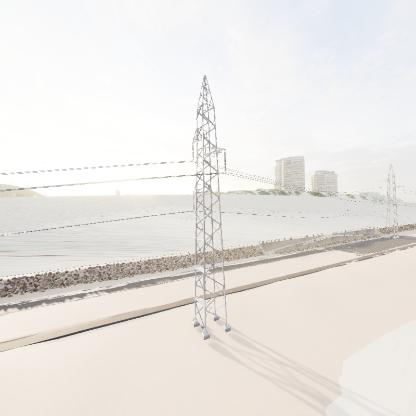tower: (182, 74, 237, 338)
